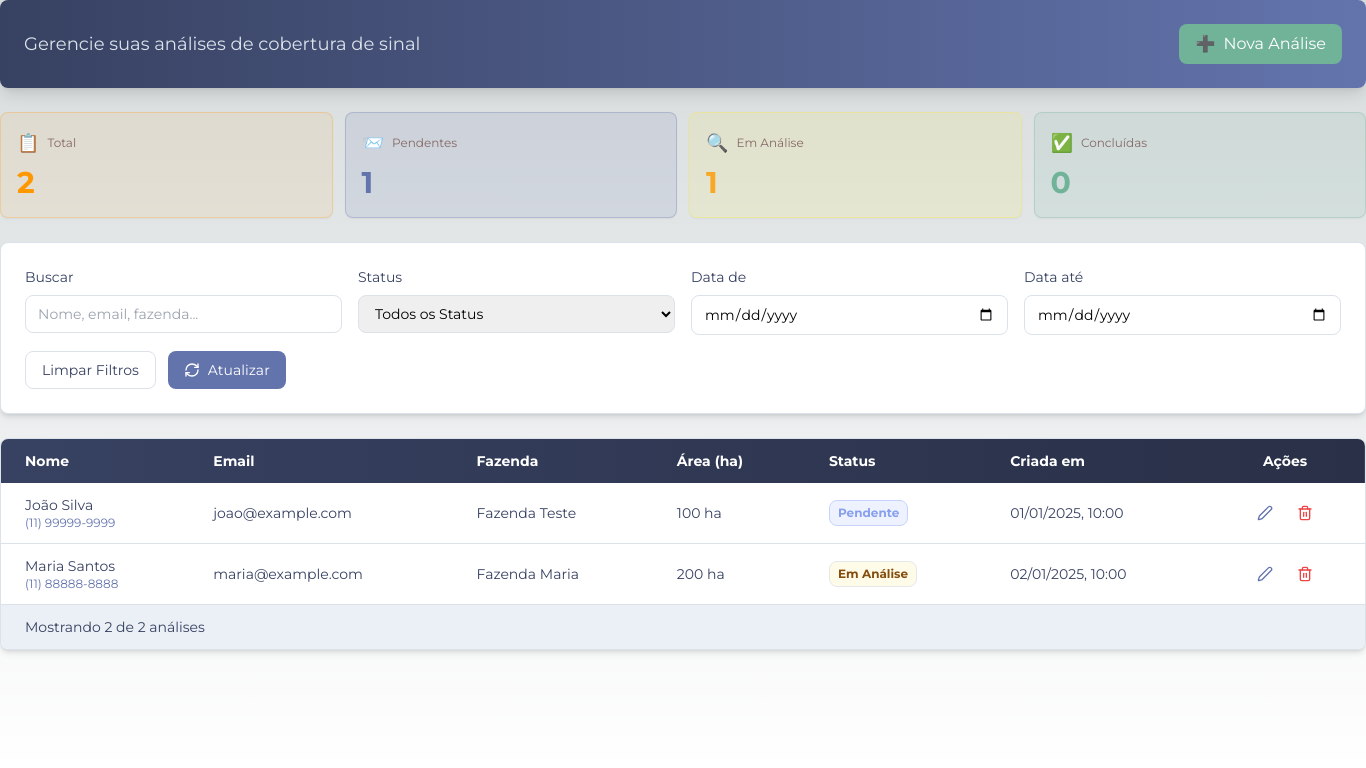
Test: AnalisesManager › deve fechar formulário após edição bem-sucedida
This screenshot has width=1366, height=768.
Clicar no botão editar da primeira análise
Click the button titled "Editar" in the row of "João Silva": x=1265, y=513 [1249,497,1281,529]
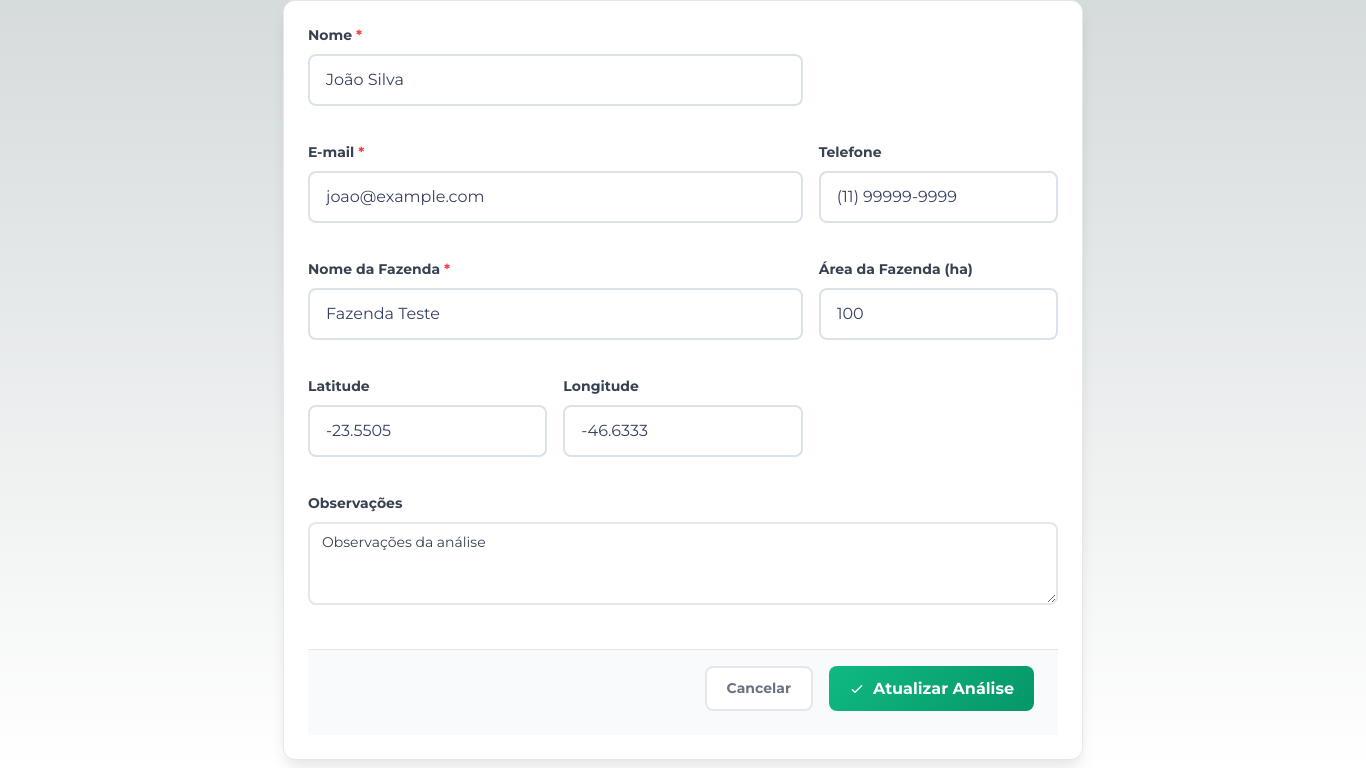
Enviar formulário sem modificações
Click the button "Atualizar Análise": x=932, y=688 [829,666,1034,711]
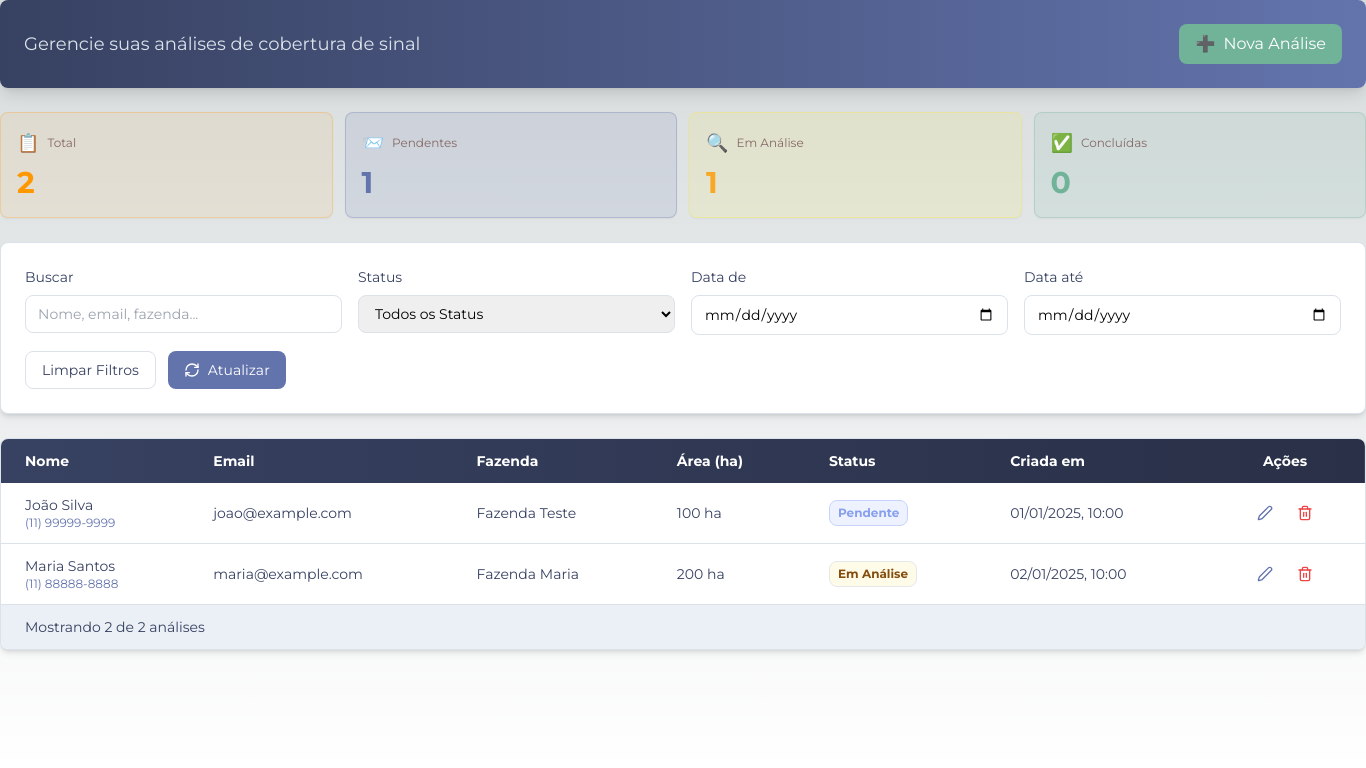
Expected: the text "Gerencie suas análises de cobertura de sinal" is shown, [24,33,420,55]
